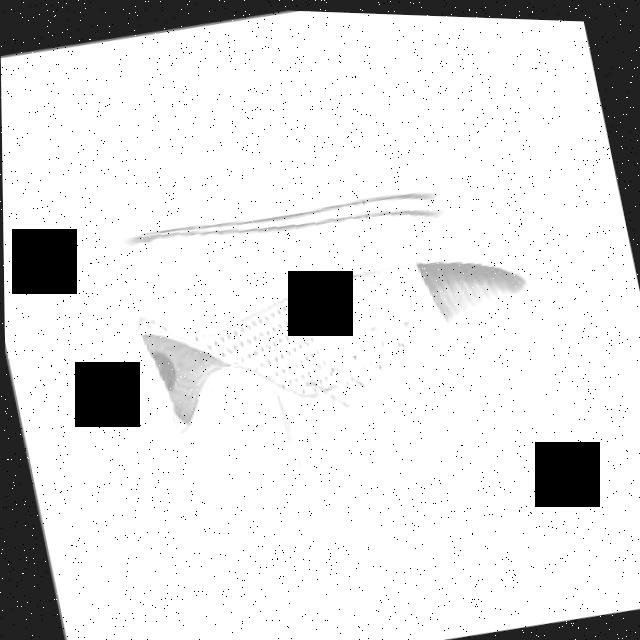shoe: (92, 159, 559, 504)
